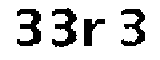3: (47, 6, 79, 52), (12, 6, 42, 51), (120, 6, 150, 49)
r: (81, 16, 110, 53)
